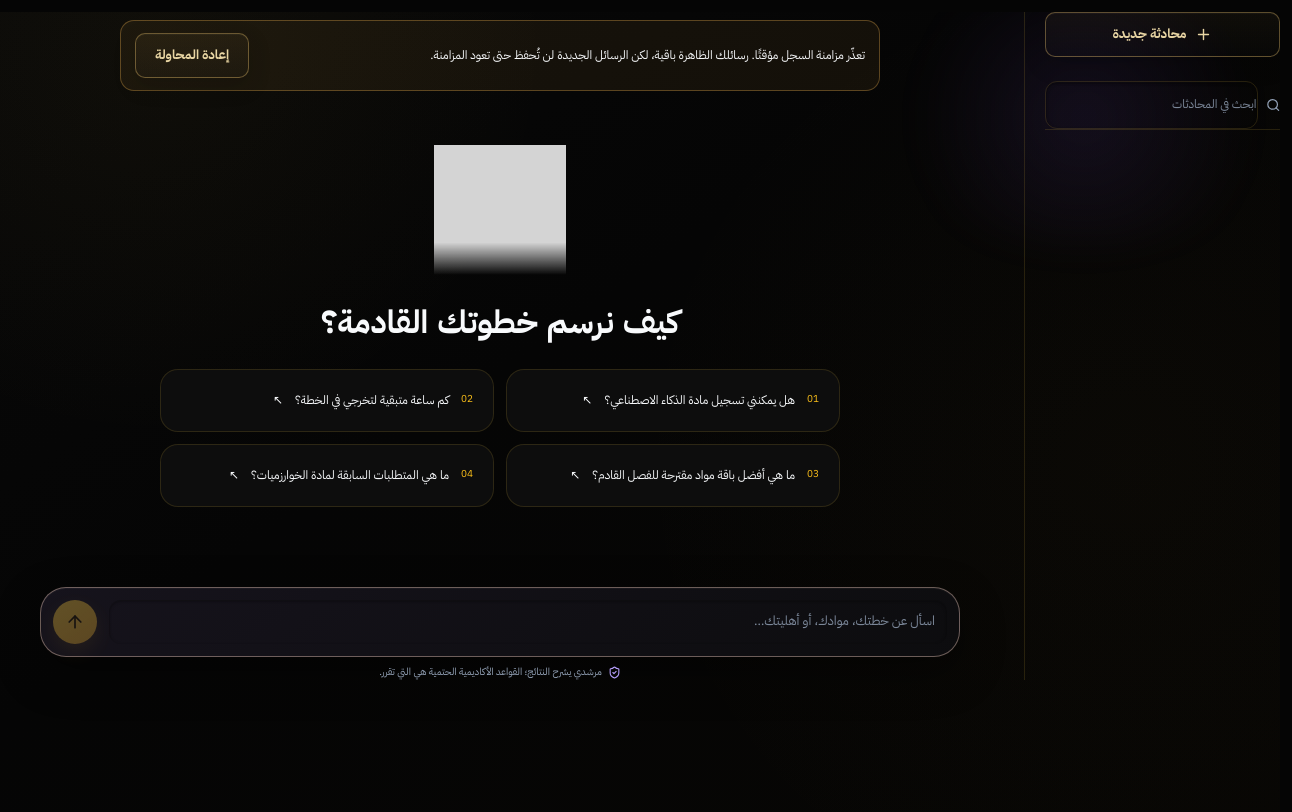
Scenario: student AI chat resilience › renders verified progress as a structured card with visible evidence
The image size is (1292, 812).
Check: the text "تعذّر مزامنة السجل مؤقتًا" is shown, box [430,46,865,64]
Type "كم ساعة ضايل علي؟" into the text box named "الاستفسار الأكاديمي" at point(528, 622), box [109,600,947,644]
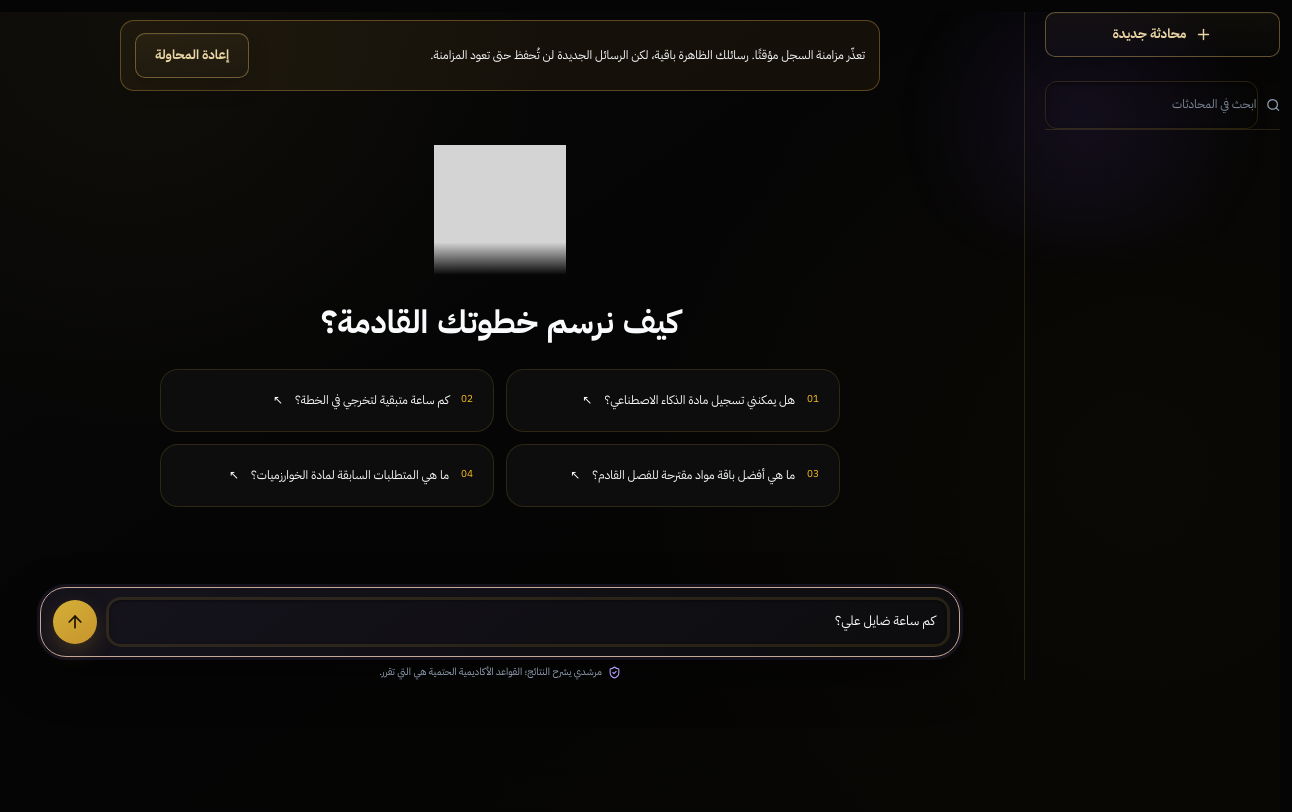
Check: the button named "إرسال" is enabled
Click the button named "إرسال" at point(75, 622), box [53,600,97,644]
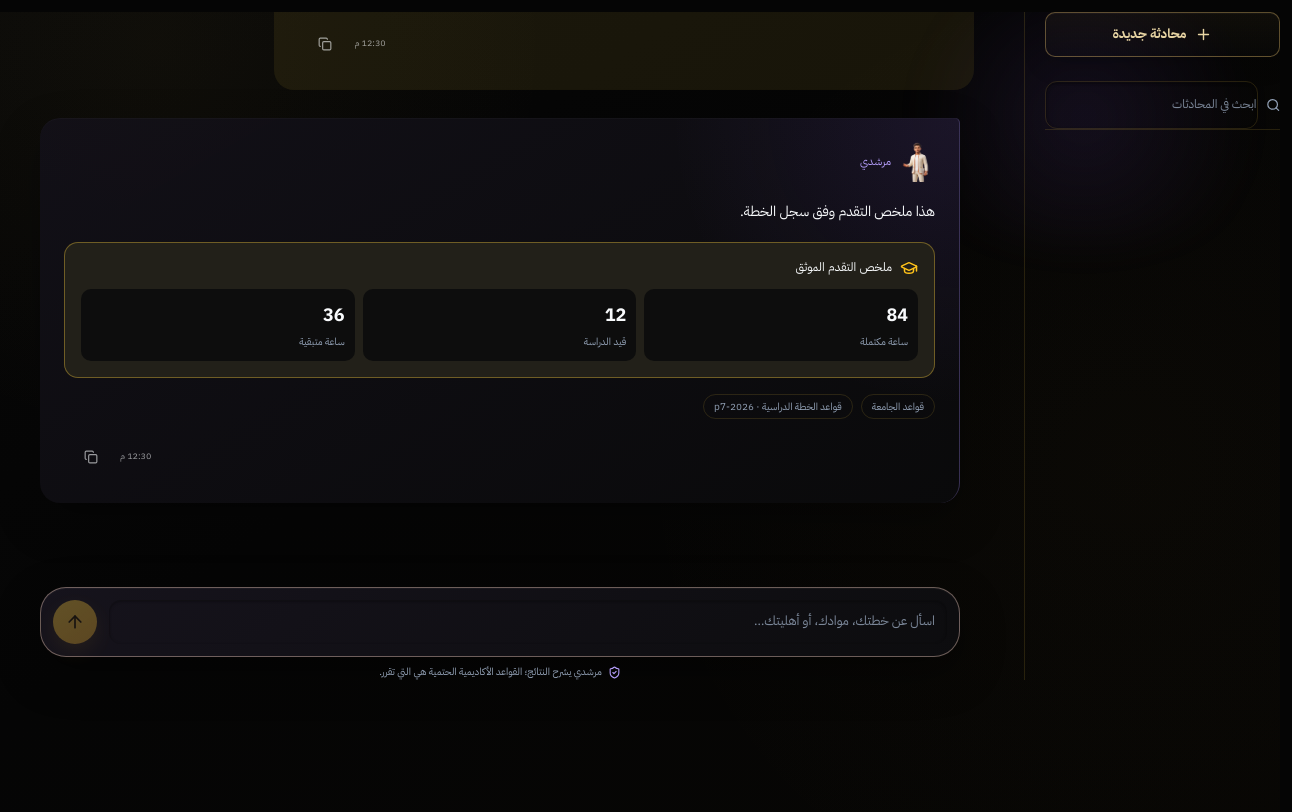
Check: the element named "ملخص التقدم الأكاديمي" is shown, box [64,242,935,378]
Check: the text "84" is shown, box [886,301,908,328]
Check: the text "36" is shown, box [323,301,345,328]
